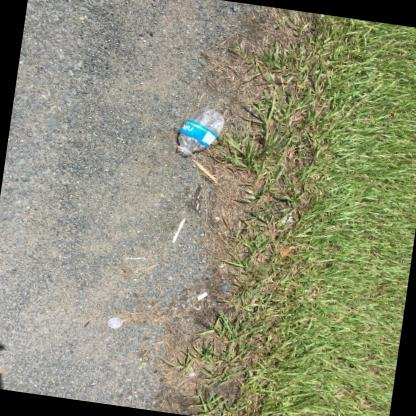Plastic: (177, 107, 224, 156), (107, 317, 122, 328)
Waste: (172, 218, 186, 243), (197, 291, 207, 300)
